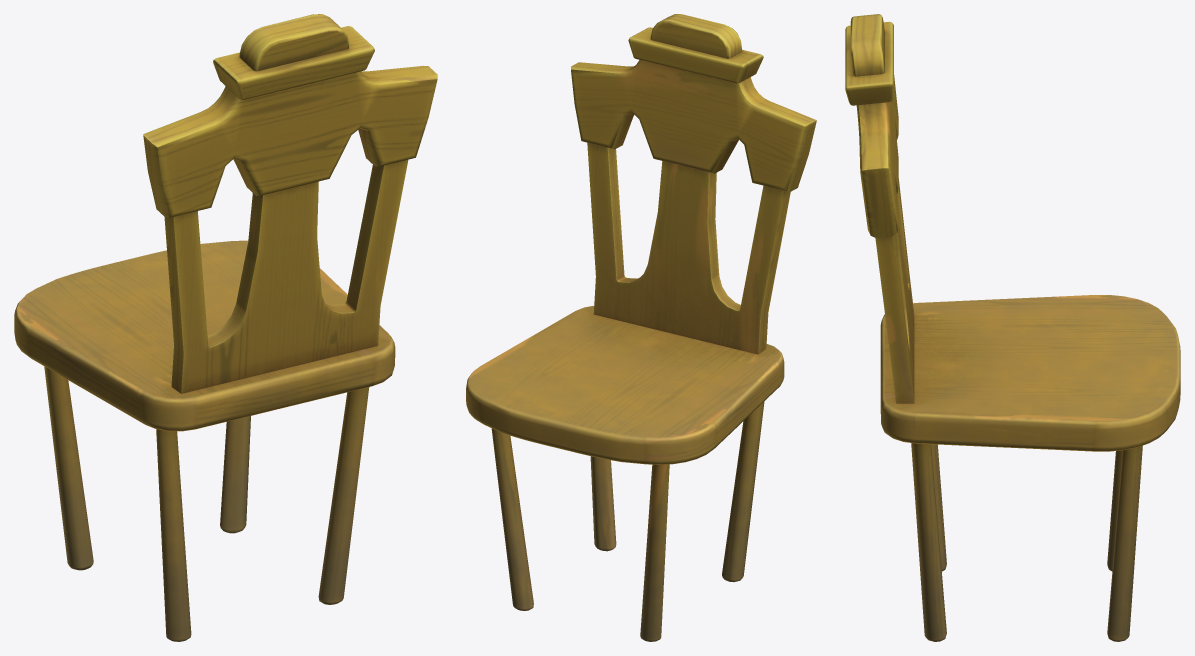
The model's file is SM_WoodenChair01.fbx.
3 views of the same model, side by side, from view 1: azimuth 30°, elevation 25°; view 2: azimuth 150°, elevation 25°; view 3: azimuth 270°, elevation 25° (orthographic). The views are drawn at different scales.
Parts seen in each view (by area): view 1: SM_WoodenChair01_LOD0; view 2: SM_WoodenChair01_LOD0; view 3: SM_WoodenChair01_LOD0.
Part boxes in pixels (bbox=[...]): SM_WoodenChair01_LOD0: bbox=[14, 14, 437, 641]; SM_WoodenChair01_LOD0: bbox=[466, 14, 816, 641]; SM_WoodenChair01_LOD0: bbox=[845, 14, 1180, 641].
Bounding box in the file's own units: 56.36 × 61.45 × 117.
1 material, 1 textured.
